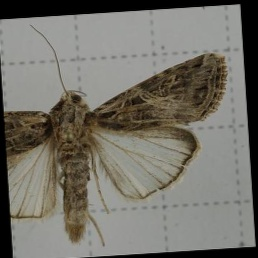Spodoptera litura: (5, 18, 231, 246)
